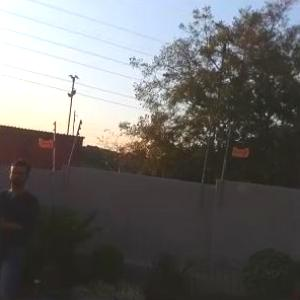follow: (0, 152, 45, 299)
